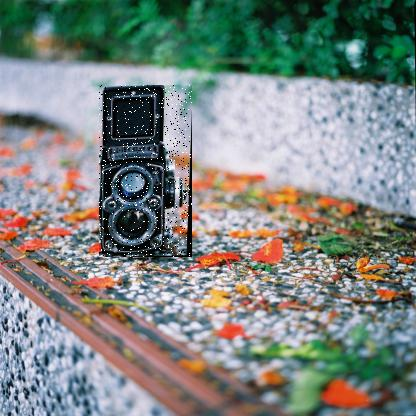Camera: (100, 86, 194, 259)
